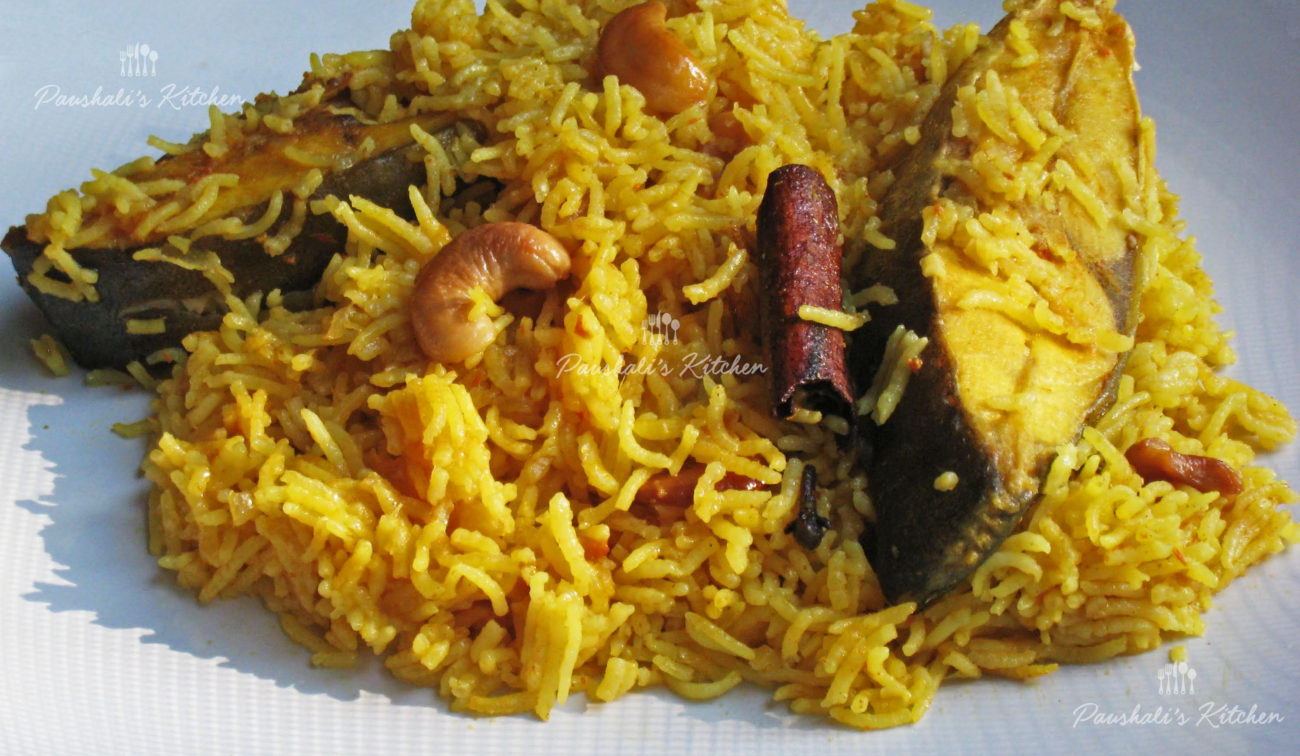khichuri: (47, 7, 1284, 734)
